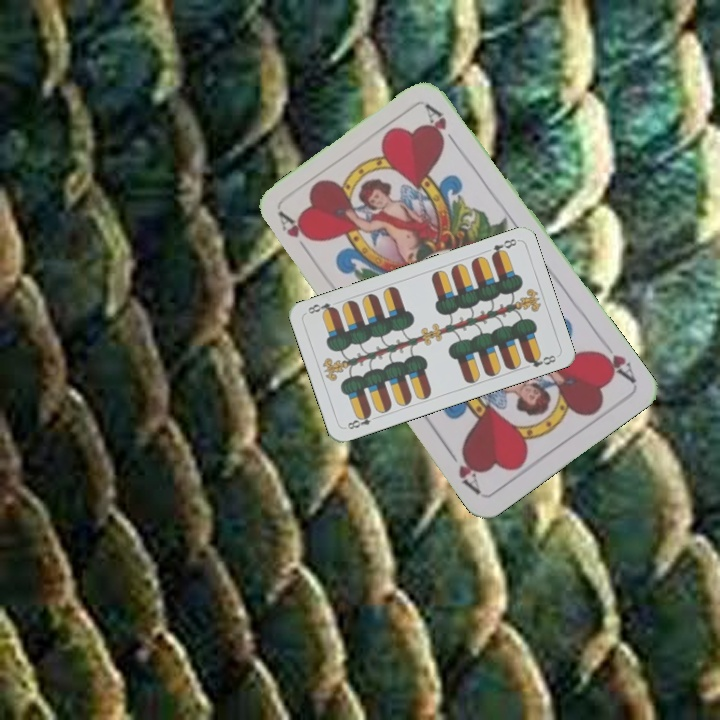E8: (343, 408, 381, 432), (487, 234, 519, 260)
HA: (590, 334, 638, 386), (275, 208, 315, 260)
